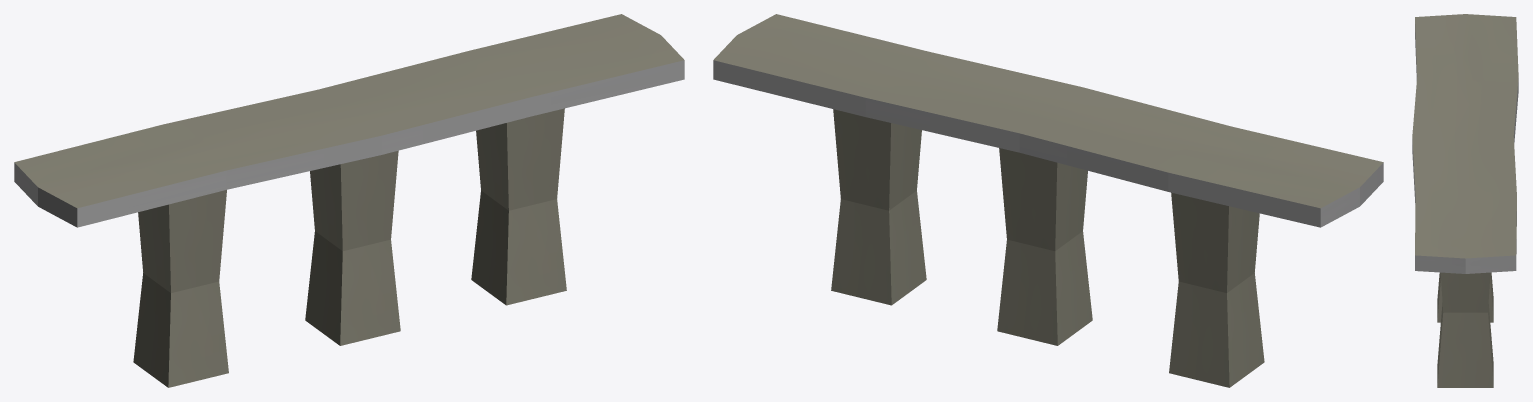
The model's file is paper stone fence 2.fbx.
The picture shows the model from 3 angles, left to right: view 1: azimuth 30°, elevation 25°; view 2: azimuth 150°, elevation 25°; view 3: azimuth 270°, elevation 25°; orthographic projection. The views are drawn at different scales.
Visible parts, largest first — view 1: Cube.003, Cube.007, Cube.001, Cube.006; view 2: Cube.003, Cube.006, Cube.001, Cube.007; view 3: Cube.003, Cube.001, Cube.006.
Part boxes in pixels (x1,y1,x2,y2): Cube.003: (14, 14, 684, 227); Cube.007: (133, 190, 228, 387); Cube.001: (471, 108, 566, 305); Cube.006: (305, 150, 400, 345); Cube.003: (713, 14, 1383, 227); Cube.006: (997, 148, 1092, 345); Cube.001: (831, 109, 926, 305); Cube.007: (1169, 192, 1264, 387); Cube.003: (1412, 14, 1518, 273); Cube.001: (1437, 272, 1493, 387); Cube.006: (1437, 272, 1493, 322).
Size of the model in its own units: 357 by 118 by 65.56.
